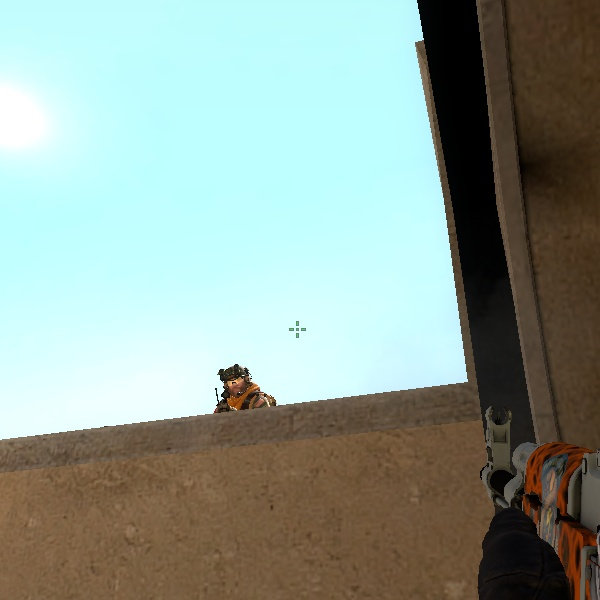t_body: (206, 361, 270, 410)
